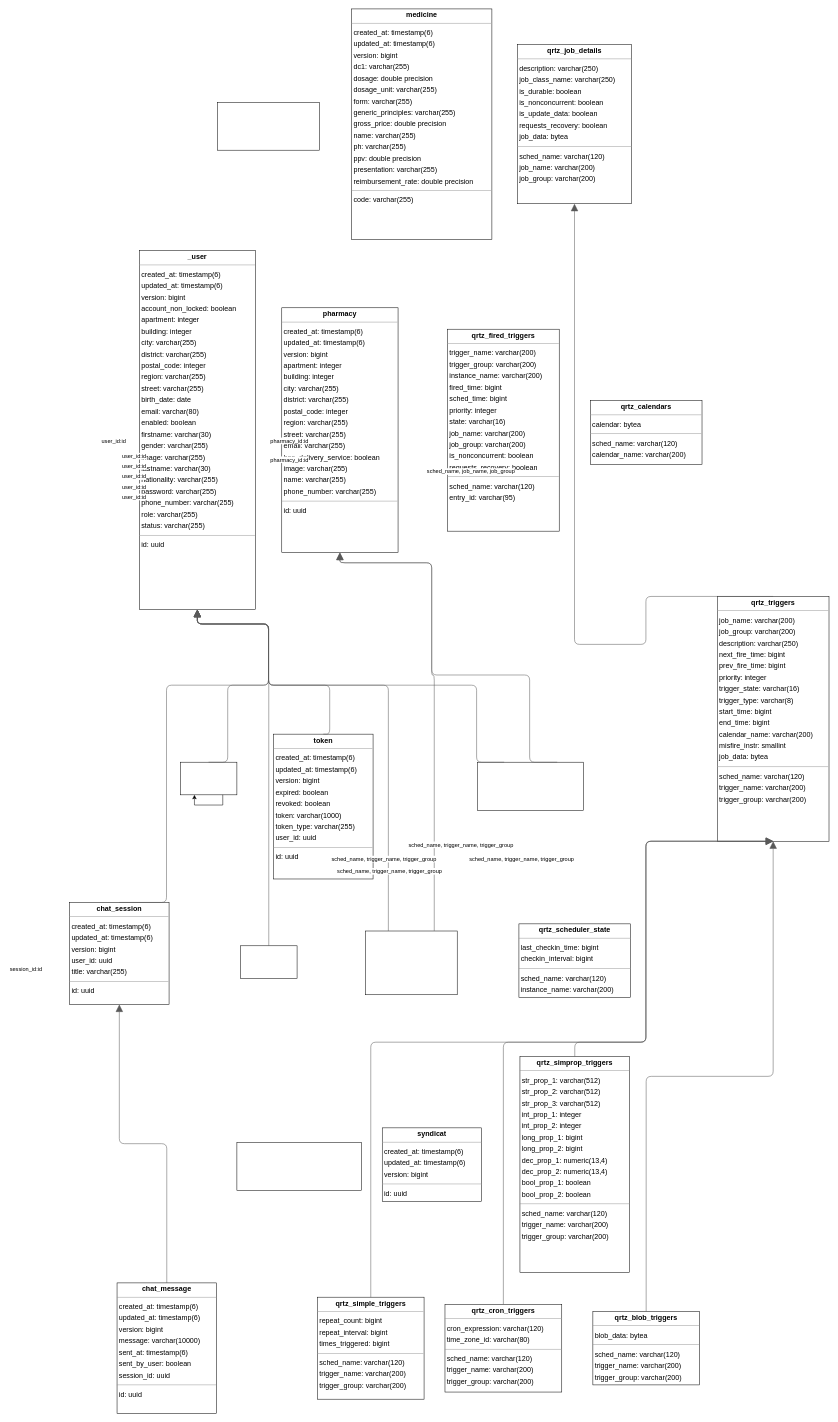
The diagram is 838 pixels wide and 1422 high, and some of its shapes have lost their labels. Here are the shapes that lost their labels. From the top down, the centre of each, then its label:
the point at 268,126: qrtz_locks sched_name: varchar(120) lock_name: varchar(40)
the point at 208,778: patient user_id: uuid
the point at 530,786: pharmacist_assistant pharmacy_id: uuid user_id: uuid
the point at 268,961: admin user_id: uuid
the point at 411,962: pharmacist matricule: varchar(255) pharmacy_id: uuid user_id: uuid
the point at 298,1166: qrtz_paused_trigger_grps sched_name: varchar(120) trigger_group: varchar(200)
